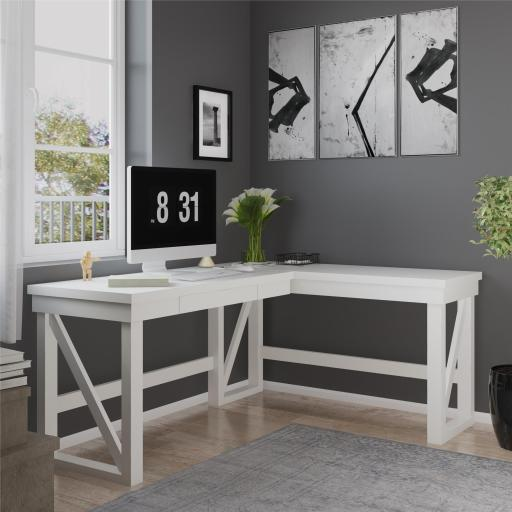desk: (27, 260, 482, 488)
wall: (2, 0, 252, 450), (251, 0, 512, 424), (126, 0, 152, 258)
